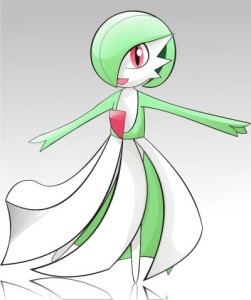gardevoir: (10, 5, 249, 285)
